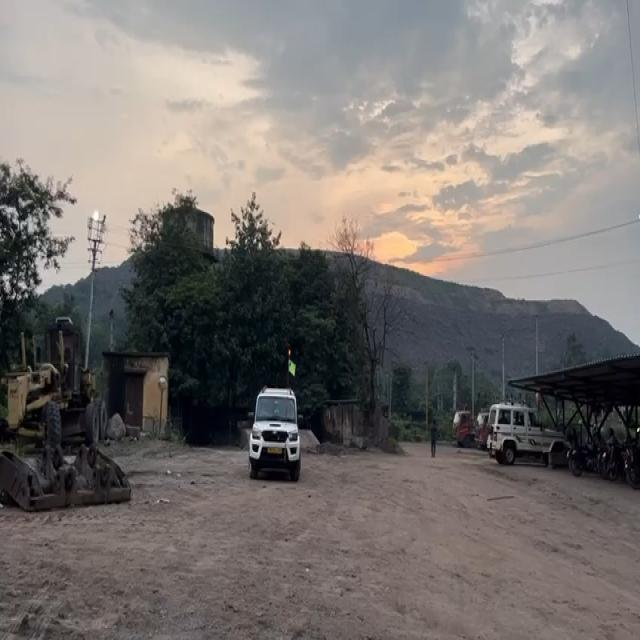light_vehicle: (250, 384, 302, 473), (488, 406, 561, 464)
